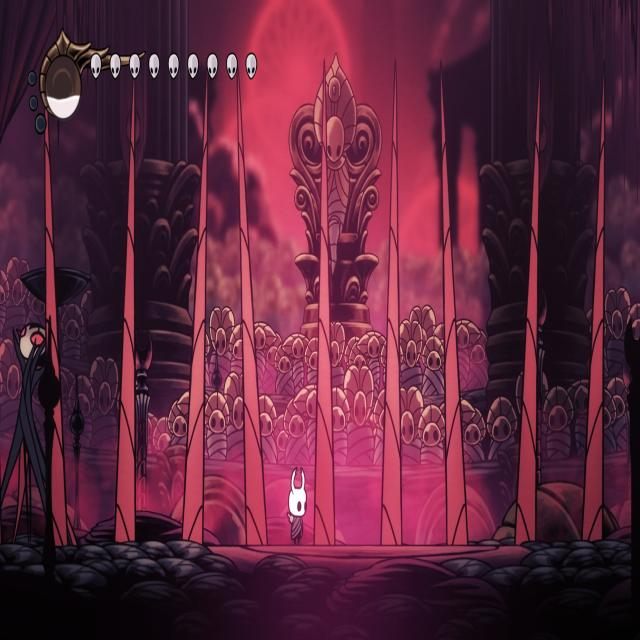Grimm: (0, 319, 69, 549)
Player: (284, 462, 310, 546)
Spikes: (378, 107, 404, 548), (243, 122, 268, 546), (312, 108, 336, 548), (182, 107, 206, 540), (45, 93, 68, 544), (114, 108, 136, 544), (446, 122, 468, 545), (516, 108, 537, 545), (583, 108, 604, 542)
